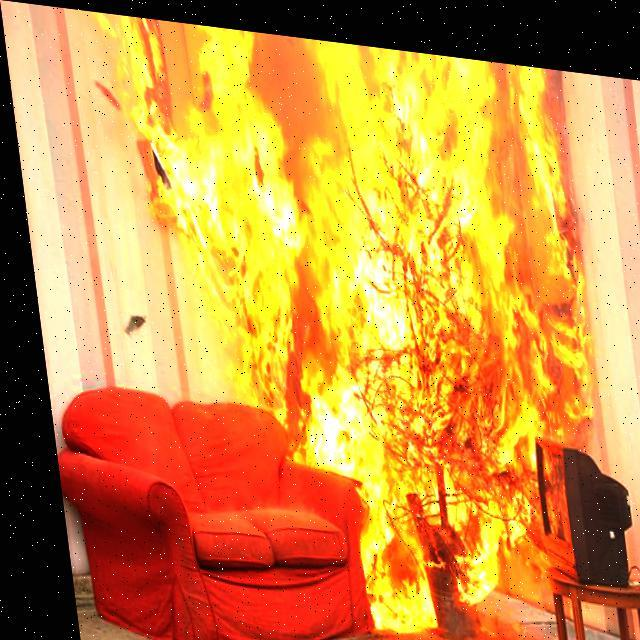Fire: (117, 12, 617, 639)
